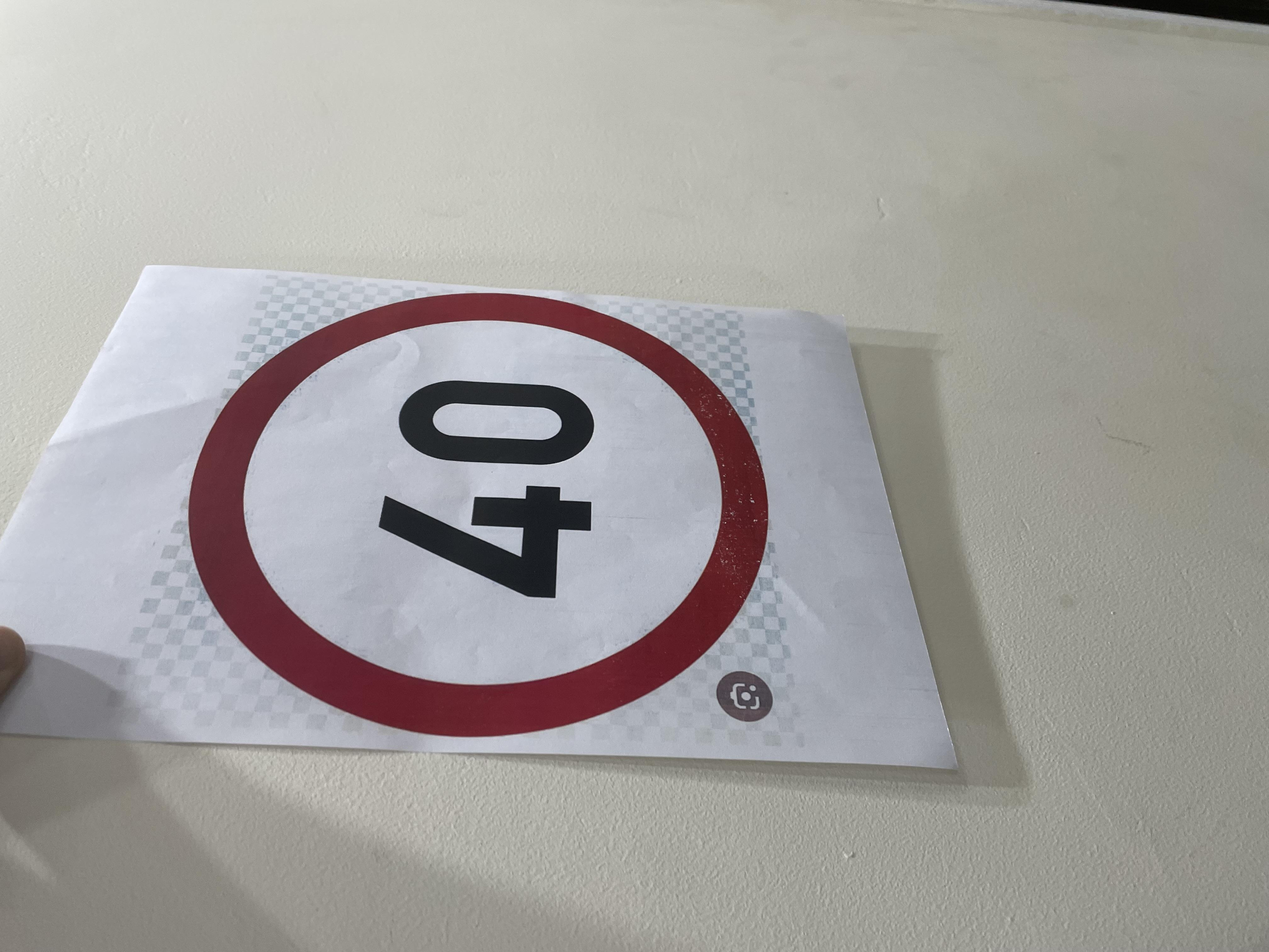40-Speed: (299, 111, 885, 579)
